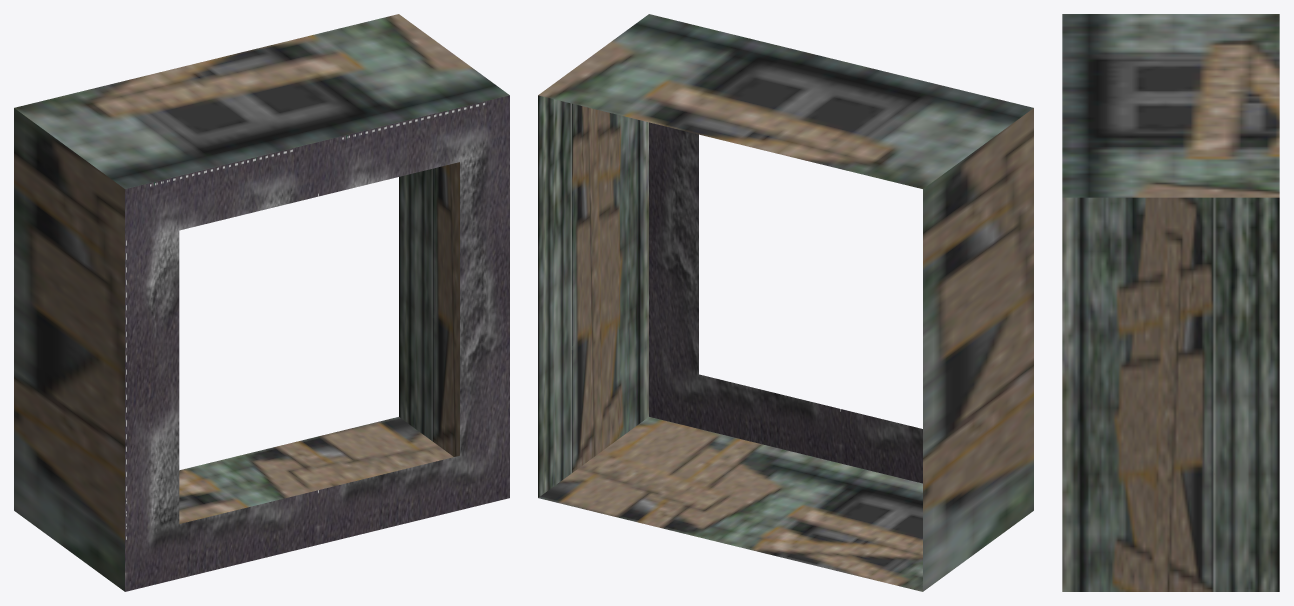
Rendered from building4x2x4a_wtf.obj.
The picture shows the model from 3 angles, left to right: view 1: azimuth 30°, elevation 25°; view 2: azimuth 150°, elevation 25°; view 3: azimuth 270°, elevation 25°; orthographic projection. The views are drawn at different scales.
Visible parts, largest first — view 1: group4, group7, group6, group5, group3; view 2: group7, group6, group5, group3, group4; view 3: group5, group6.
Boxes of the visible parts, x1,y1,x2,y2 form: group4: [125, 95, 509, 591]; group7: [14, 108, 124, 591]; group6: [14, 14, 509, 188]; group5: [399, 162, 459, 456]; group3: [179, 417, 453, 523]; group7: [923, 108, 1033, 591]; group6: [538, 14, 1033, 188]; group5: [538, 95, 648, 497]; group3: [538, 417, 922, 591]; group4: [649, 122, 922, 483]; group5: [1062, 197, 1279, 591]; group6: [1062, 14, 1279, 197].
Size of the model in its own units: 660 by 660 by 330.
